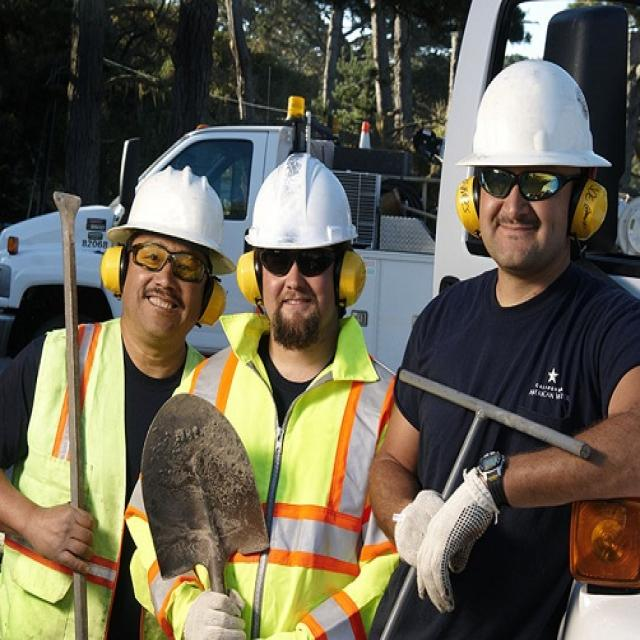Reflective-Jacket: (131, 346, 398, 638), (0, 322, 198, 636)
Safety-Helmet: (453, 54, 613, 176), (102, 160, 233, 272), (240, 151, 360, 254)
